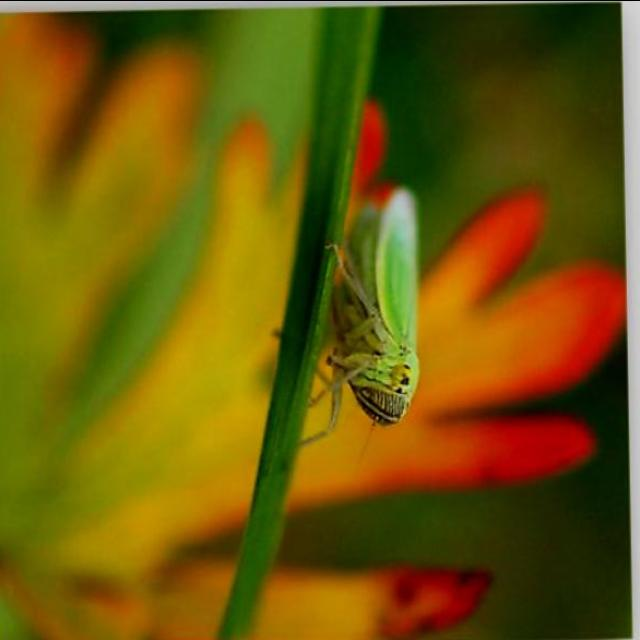green leaf hopper: (303, 186, 419, 442)
